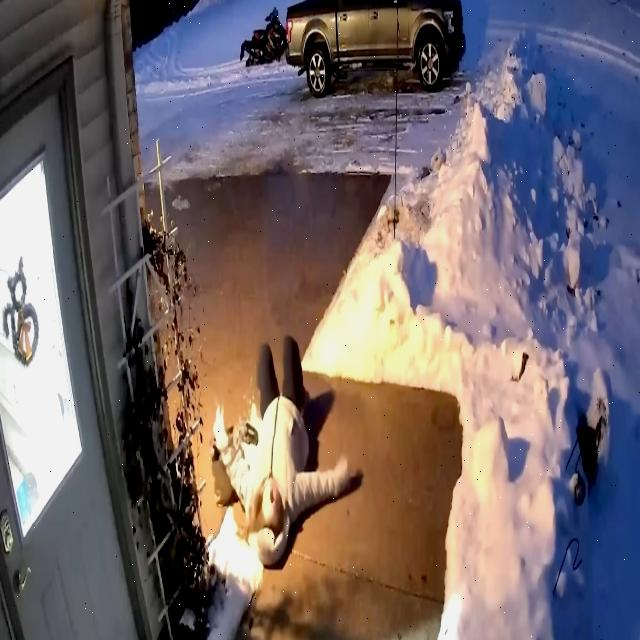fallen: (213, 335, 353, 566)
